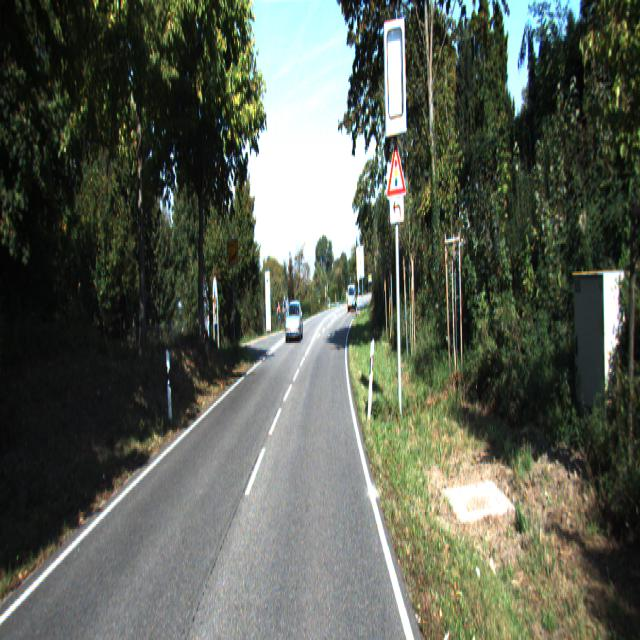Car: (285, 300, 303, 343)
